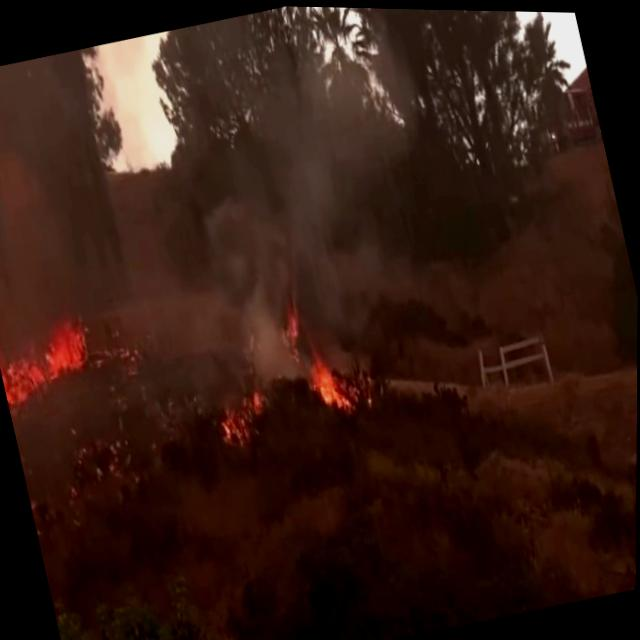fire: (0, 249, 127, 423)
smoke: (164, 16, 393, 393)
